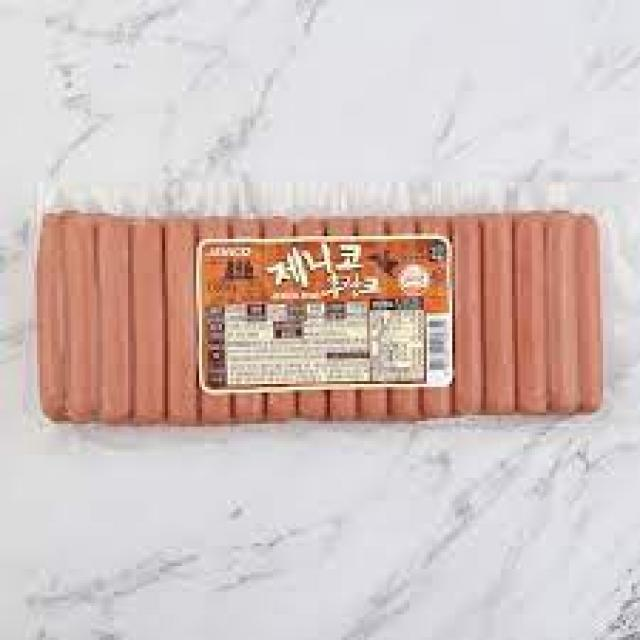sausage: (23, 199, 196, 432), (446, 201, 610, 417)
